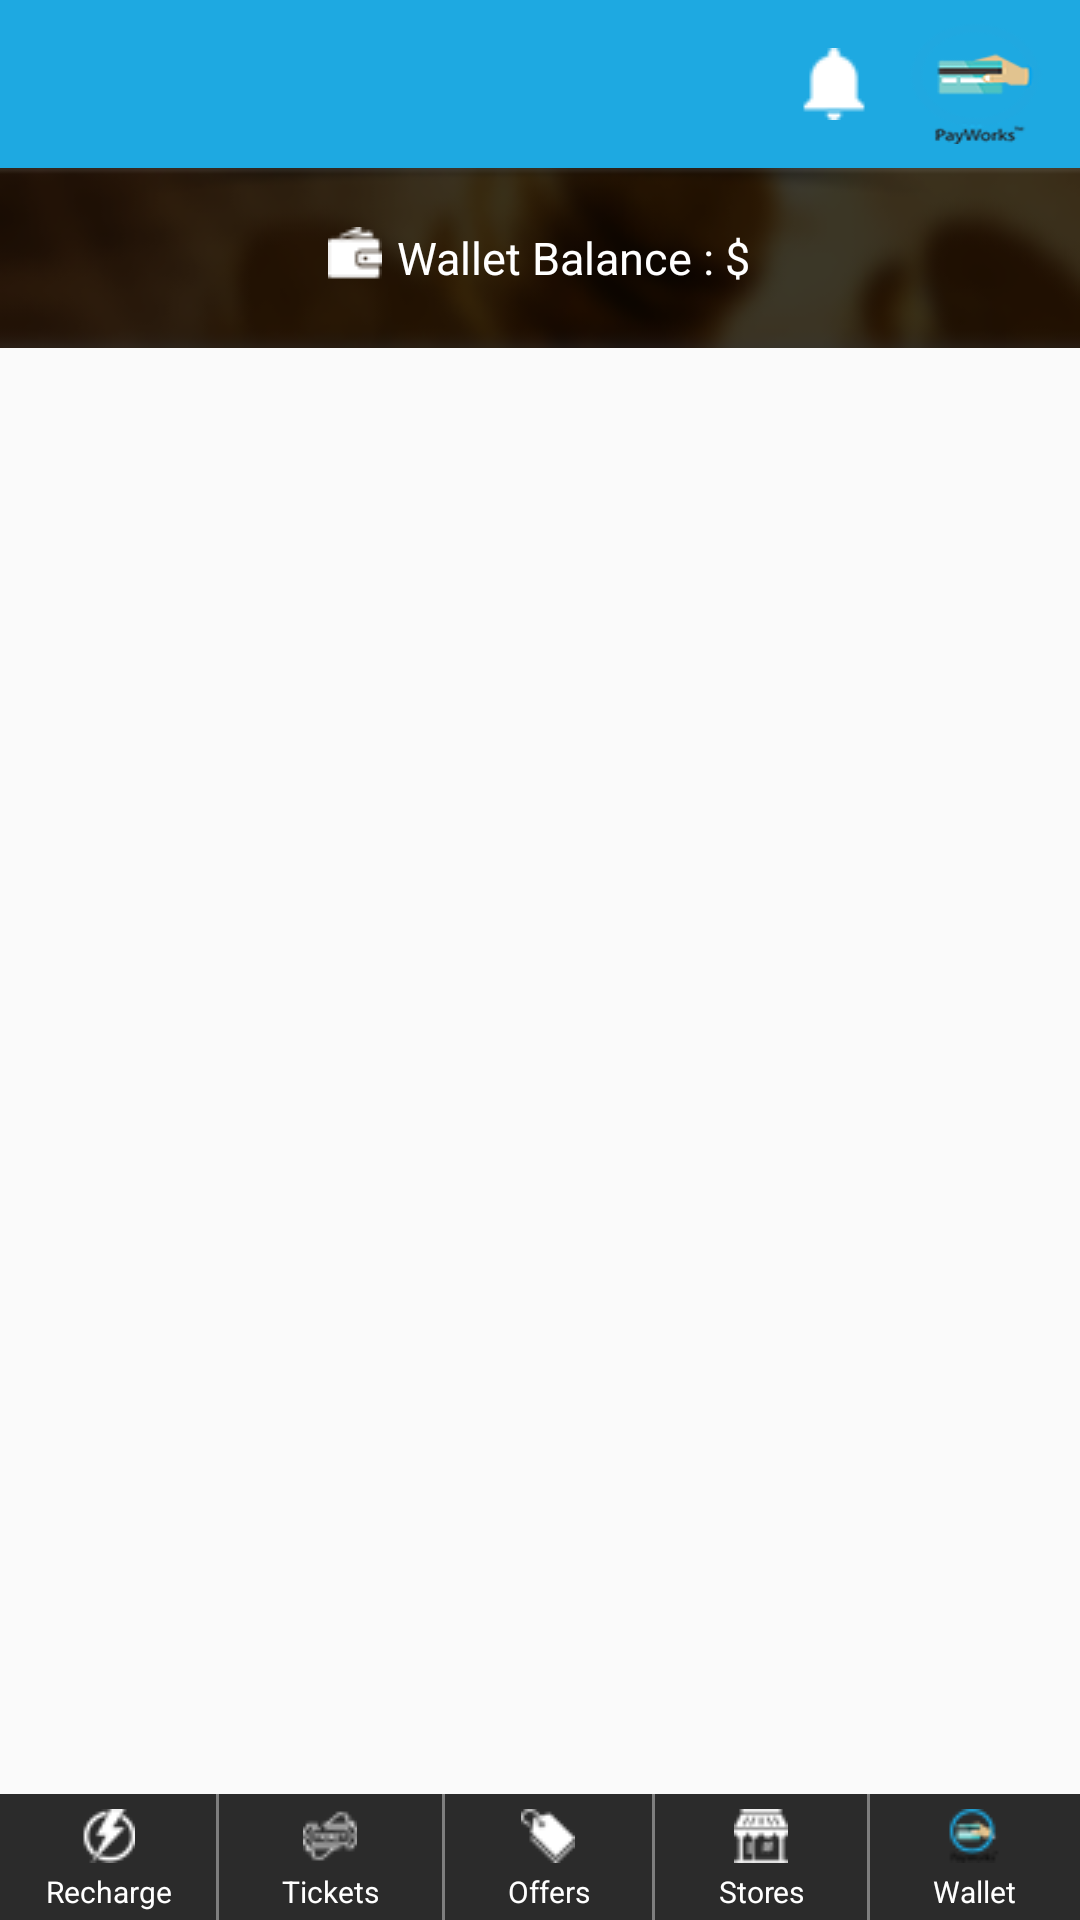

Where to tap for icons on this 1080 x 1920 app screen, as (x,y):
bell: (834,84)
